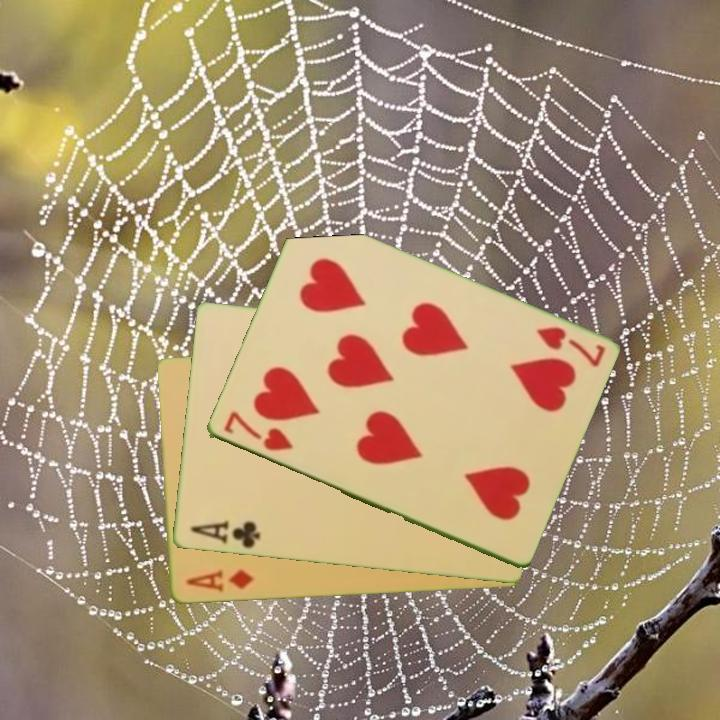7h: (532, 323, 608, 370), (220, 408, 296, 454)
Ac: (186, 516, 263, 551)
Ad: (182, 566, 256, 595)
